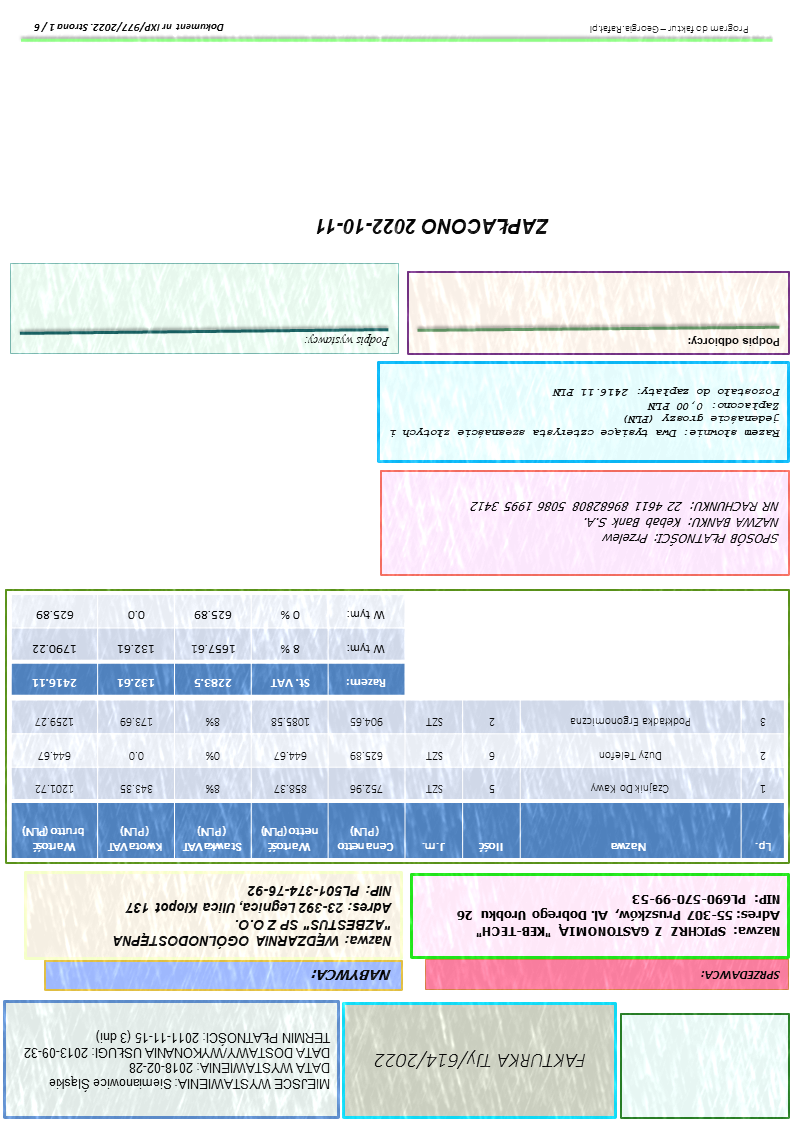Table: (11, 700, 786, 860), (10, 594, 406, 697)
TextBox: (390, 385, 782, 440), (22, 1027, 333, 1093), (111, 884, 395, 950), (456, 891, 782, 940), (469, 499, 783, 548), (314, 216, 552, 239), (374, 1050, 589, 1071), (33, 20, 227, 34), (588, 22, 752, 36), (304, 332, 393, 351), (686, 333, 783, 350), (700, 966, 784, 984), (310, 967, 394, 984)
